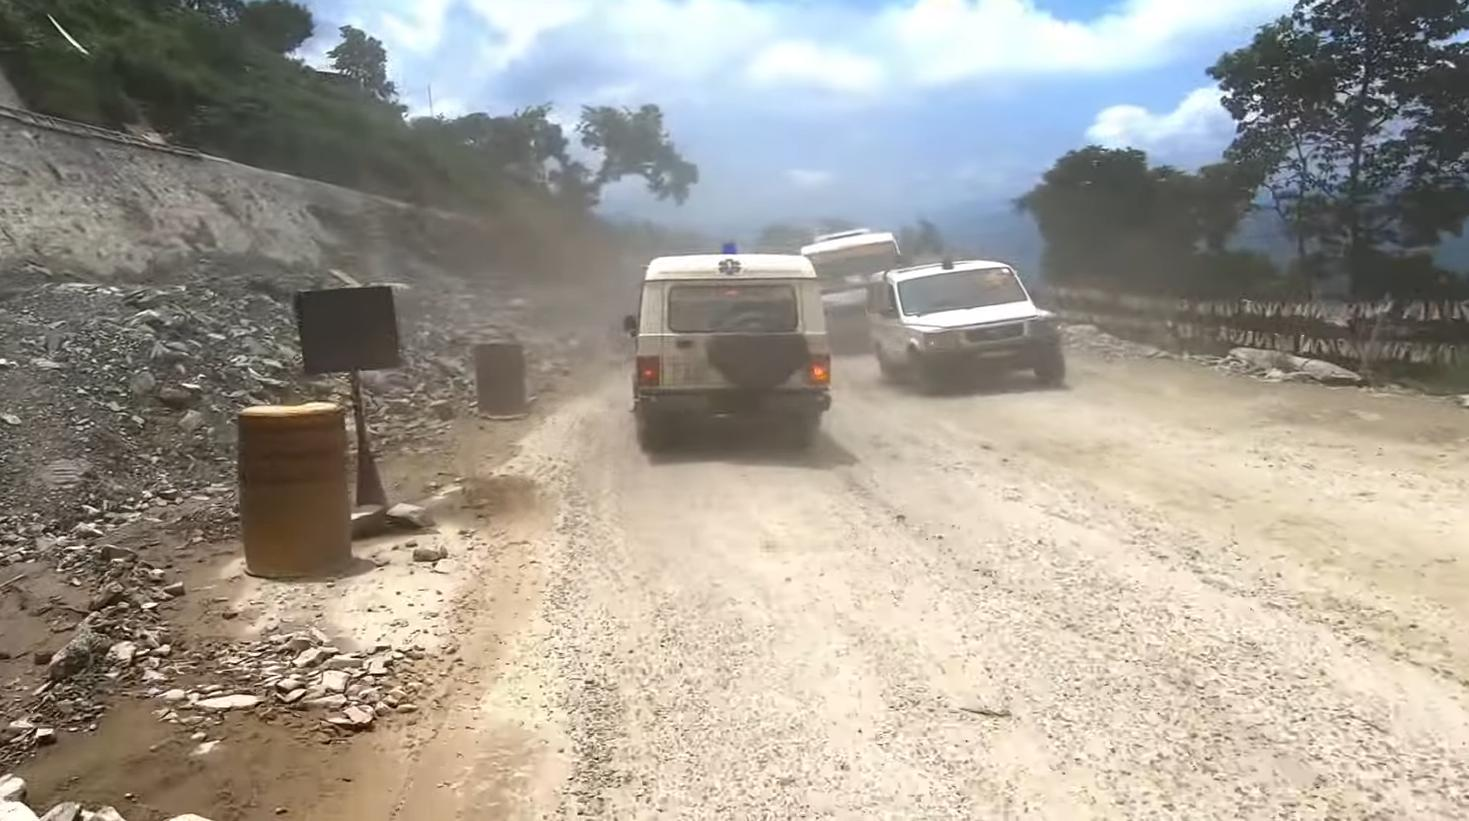ambulance: (618, 240, 828, 464), (864, 252, 1085, 400)
